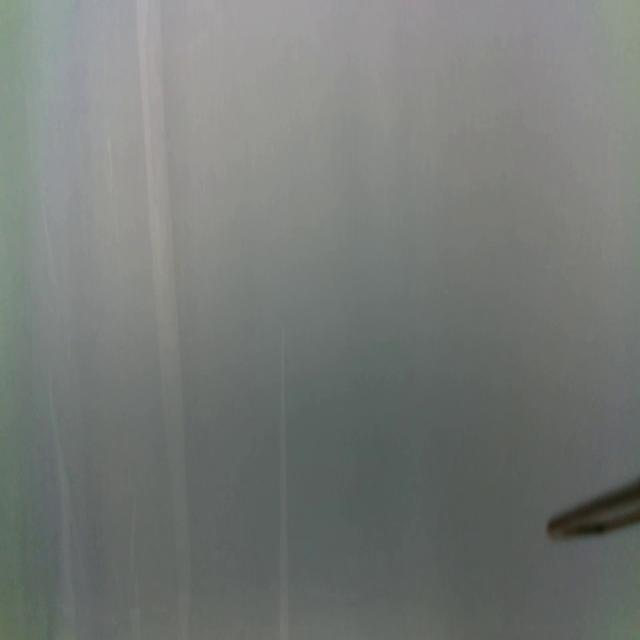crease: (135, 0, 192, 638), (277, 336, 291, 638)
